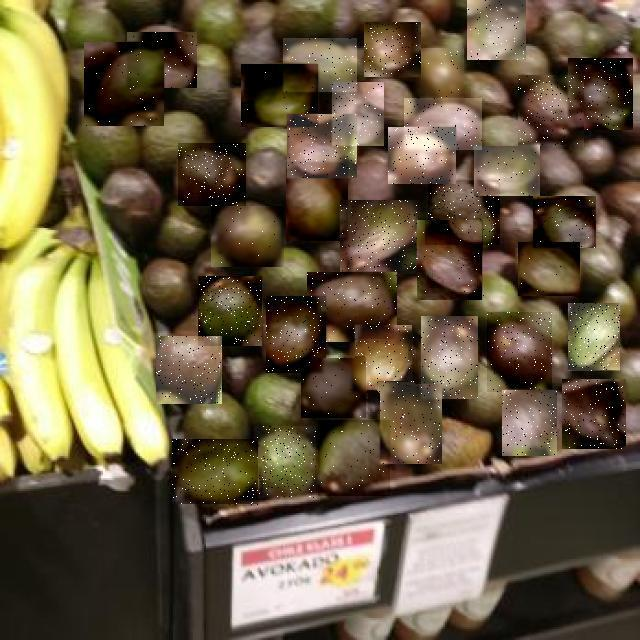Avocado: (84, 43, 164, 127), (307, 272, 397, 342), (340, 200, 418, 274), (172, 440, 258, 506), (318, 420, 390, 496), (418, 220, 486, 300), (487, 312, 552, 392), (380, 384, 442, 464), (286, 162, 348, 241), (241, 64, 318, 127), (518, 76, 584, 148), (421, 316, 478, 399), (429, 180, 501, 245), (568, 59, 633, 131), (266, 296, 326, 373), (212, 206, 286, 267), (157, 337, 223, 405), (198, 276, 262, 346), (562, 379, 626, 449), (287, 114, 357, 178), (254, 427, 316, 499), (179, 143, 247, 206), (356, 326, 416, 394), (404, 98, 482, 150), (283, 39, 357, 93), (302, 358, 368, 418), (127, 32, 197, 88), (388, 127, 456, 184), (568, 304, 620, 374), (502, 390, 557, 456), (467, 1, 526, 61), (518, 243, 580, 297), (333, 82, 385, 146), (475, 146, 541, 196), (533, 197, 596, 249), (364, 22, 421, 77), (421, 48, 464, 105)
